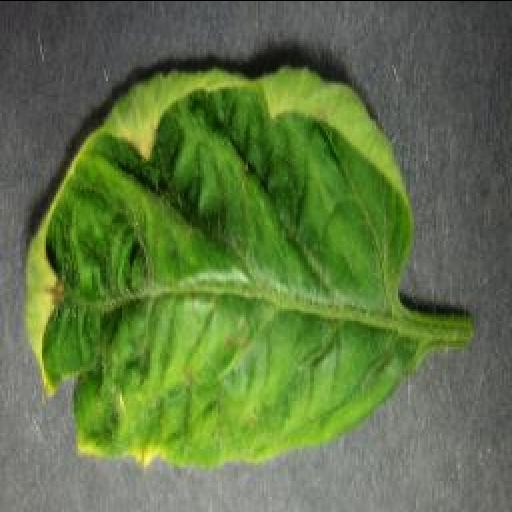disease_tomato: (23, 58, 417, 474)
